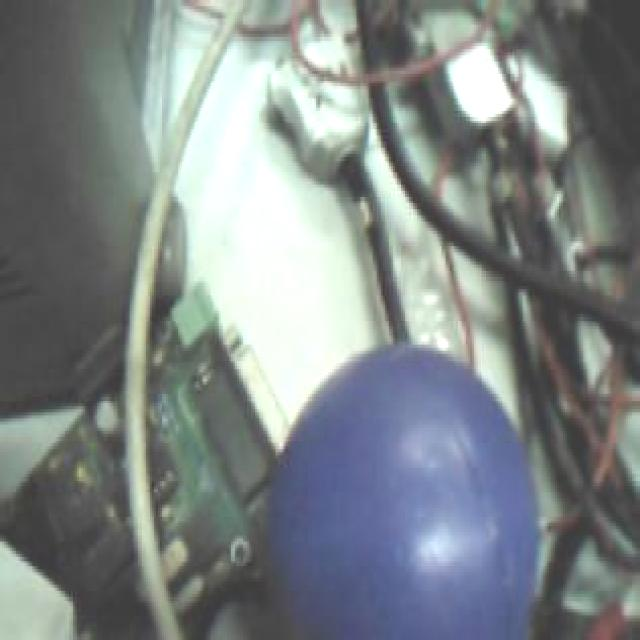BallPurple: (271, 348, 539, 640)
